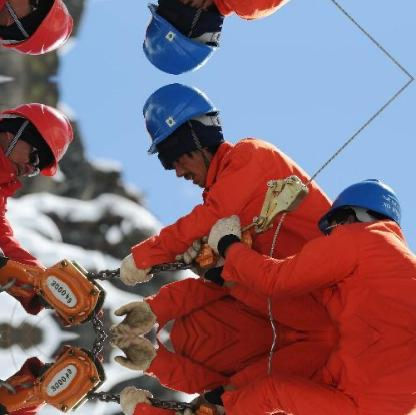Safety Helmet: (135, 77, 246, 184), (316, 174, 416, 243), (138, 1, 229, 76), (1, 99, 78, 185), (1, 1, 77, 61)
